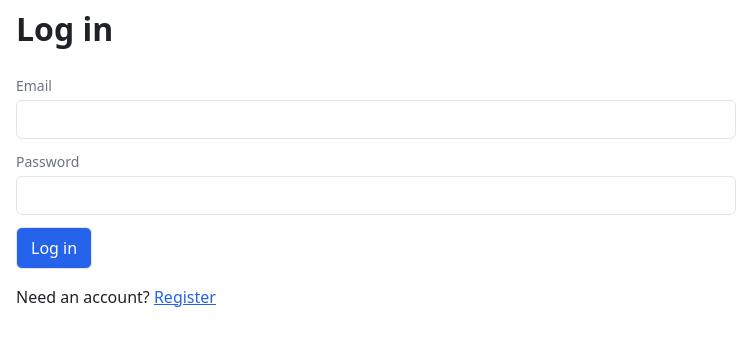
Test: LoginPage › shows an error message for invalid credentials and stays on the page
Type "a@example.com" into the field labelled "Email". click: (376, 119)
box: [16,100,736,139]
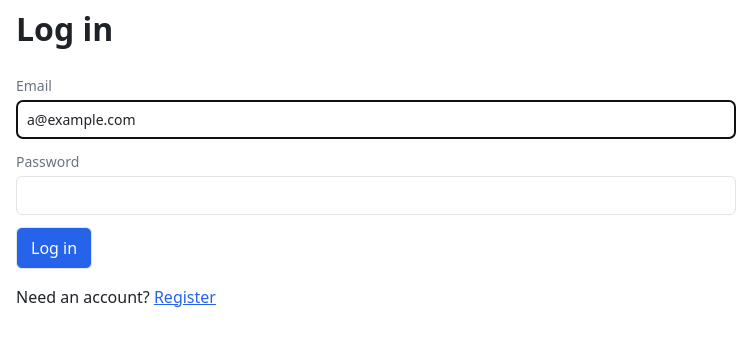
Type "wrong" into the password field labelled "Password". click: (376, 195)
box: [16,176,736,215]
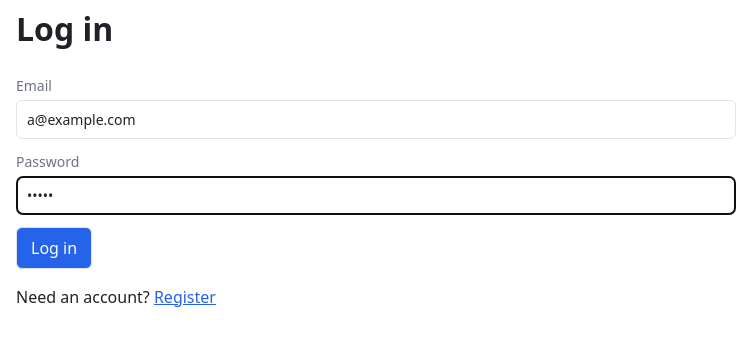
Click the button "Log in". click: (54, 248)
box: [16,227,92,269]
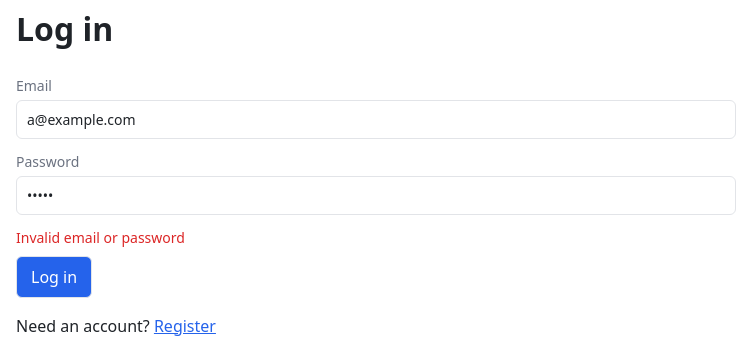
Check: the text "Invalid email or password" is shown, box [16,228,185,247]
